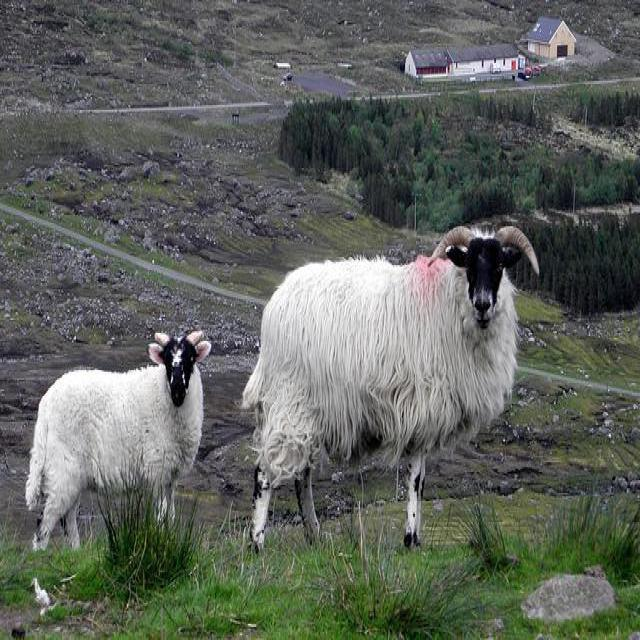Sheep: (241, 225, 542, 550), (26, 331, 218, 553)
